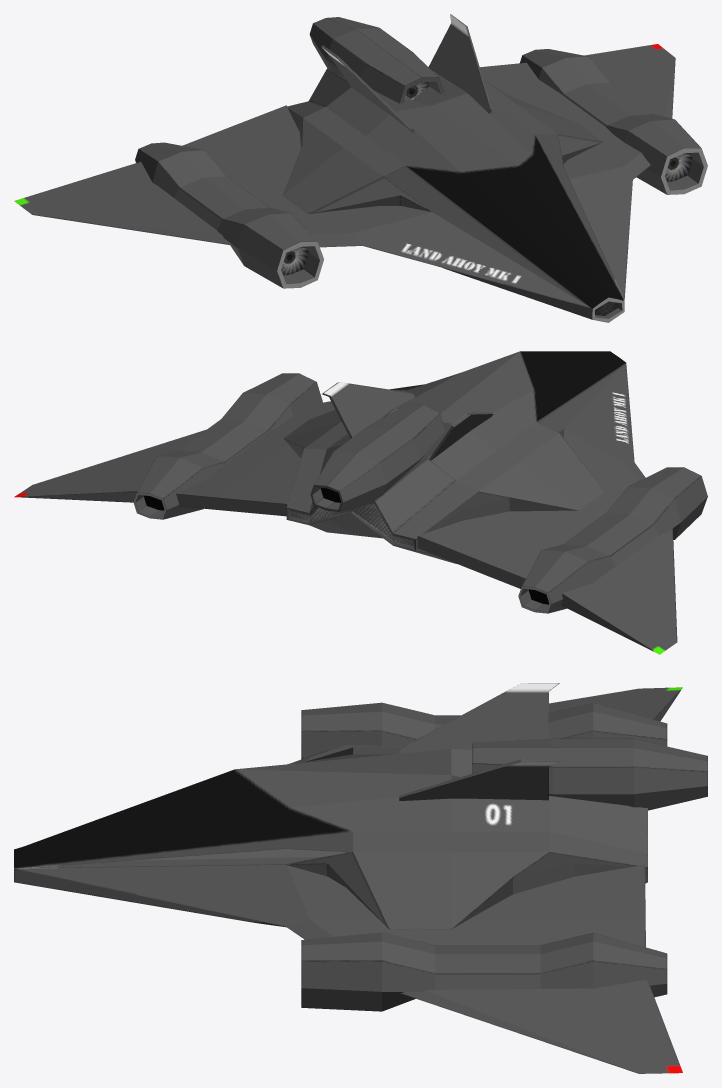
Rendered from spaceShip.obj.
3 renders of one model, top to bottom at view 1: azimuth 30°, elevation 25°; view 2: azimuth 150°, elevation 25°; view 3: azimuth 270°, elevation 25°, orthographic. The views are drawn at different scales.
Parts seen in each view (by area): view 1: Cube.008_Cube.022; view 2: Cube.008_Cube.022; view 3: Cube.008_Cube.022.
Boxes of the visible parts, box(x1,y1,x2,y2) form: Cube.008_Cube.022: box(14, 14, 707, 322); Cube.008_Cube.022: box(14, 351, 707, 654); Cube.008_Cube.022: box(14, 683, 707, 1073).
Size of the model in its own units: 9.98 by 2.1 by 7.59.
